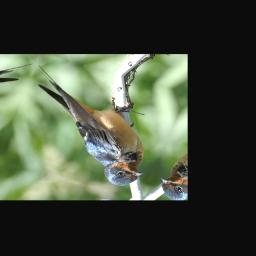Swallow: (0, 63, 176, 191)
